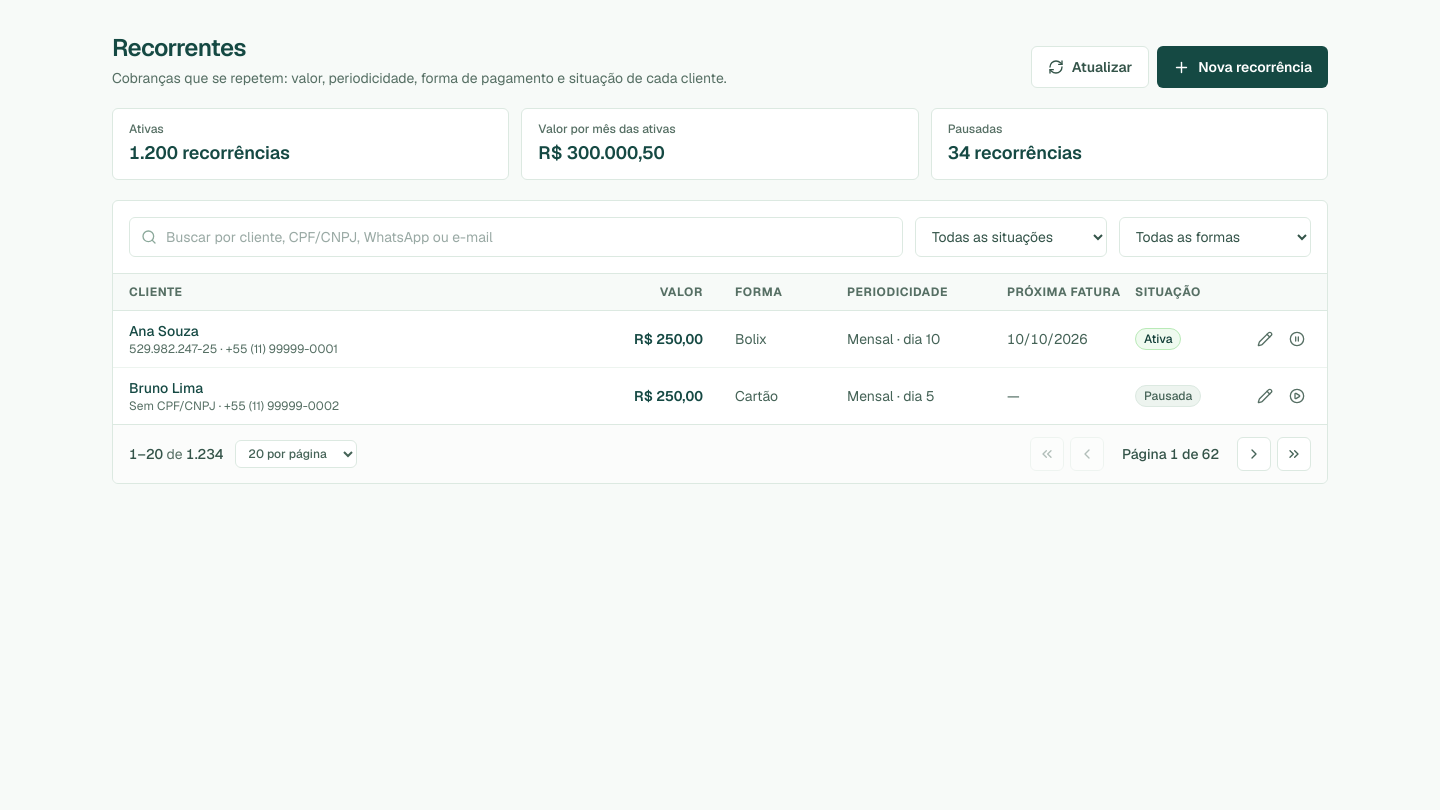
Scenario: RecorrentesPage › confirms a pause, saying the open invoice stays
The image size is (1440, 810).
Expected: the table is shown, [113,274,1327,424]
What coordinates should you click on to do the following:
click the button named "Pausar recorrência de Ana Souza"
I would click on:
 (1297, 339)
Its box is [1283,325,1311,353].
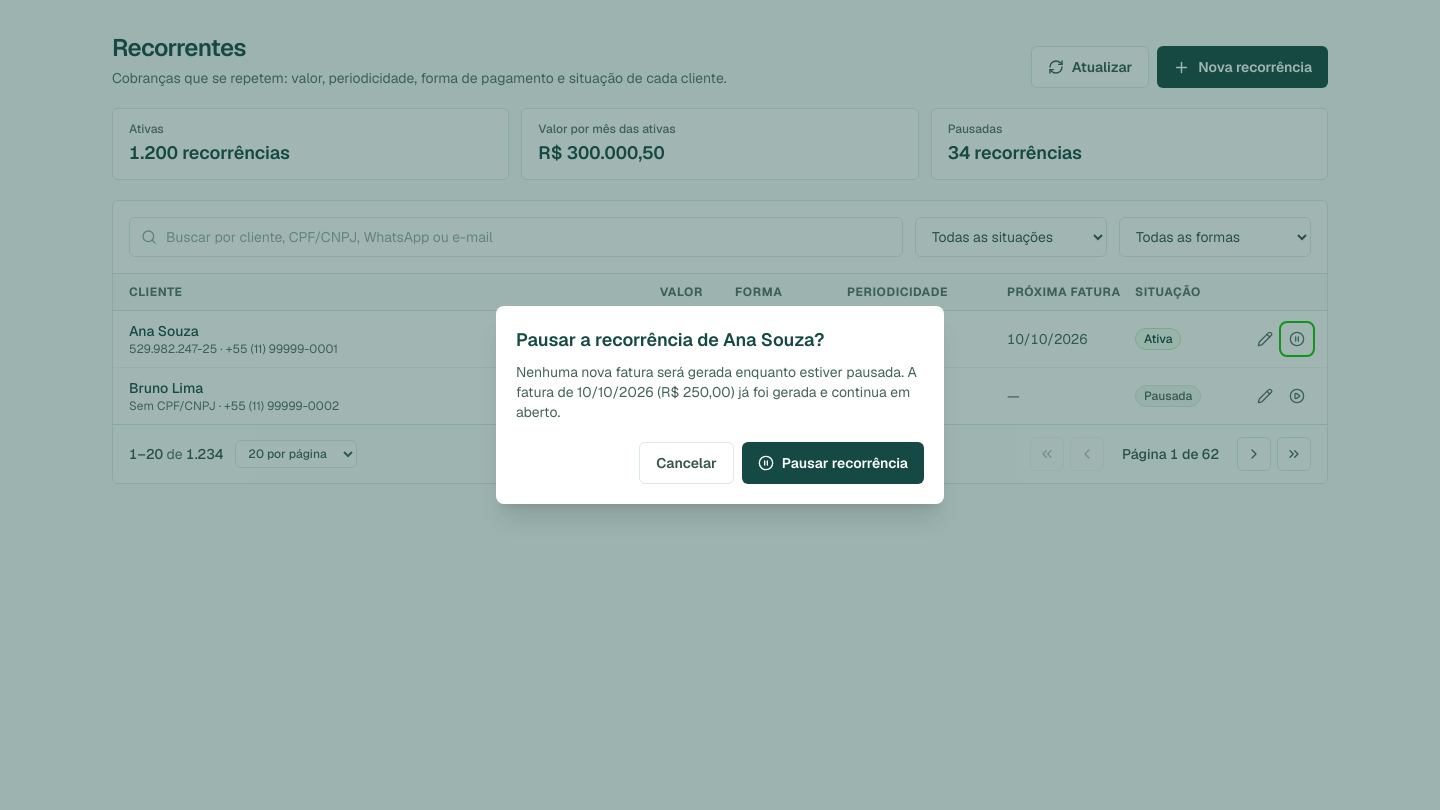
Result: the dialog shows "A fatura de 10/10/2026 (R$ 250,00) já foi gerada e continua em aberto." at [516,363,917,421]
What coordinates should you click on to do the following:
click the button "Pausar recorrência"
I would click on:
 (833, 463)
Its box is [742,442,924,484].
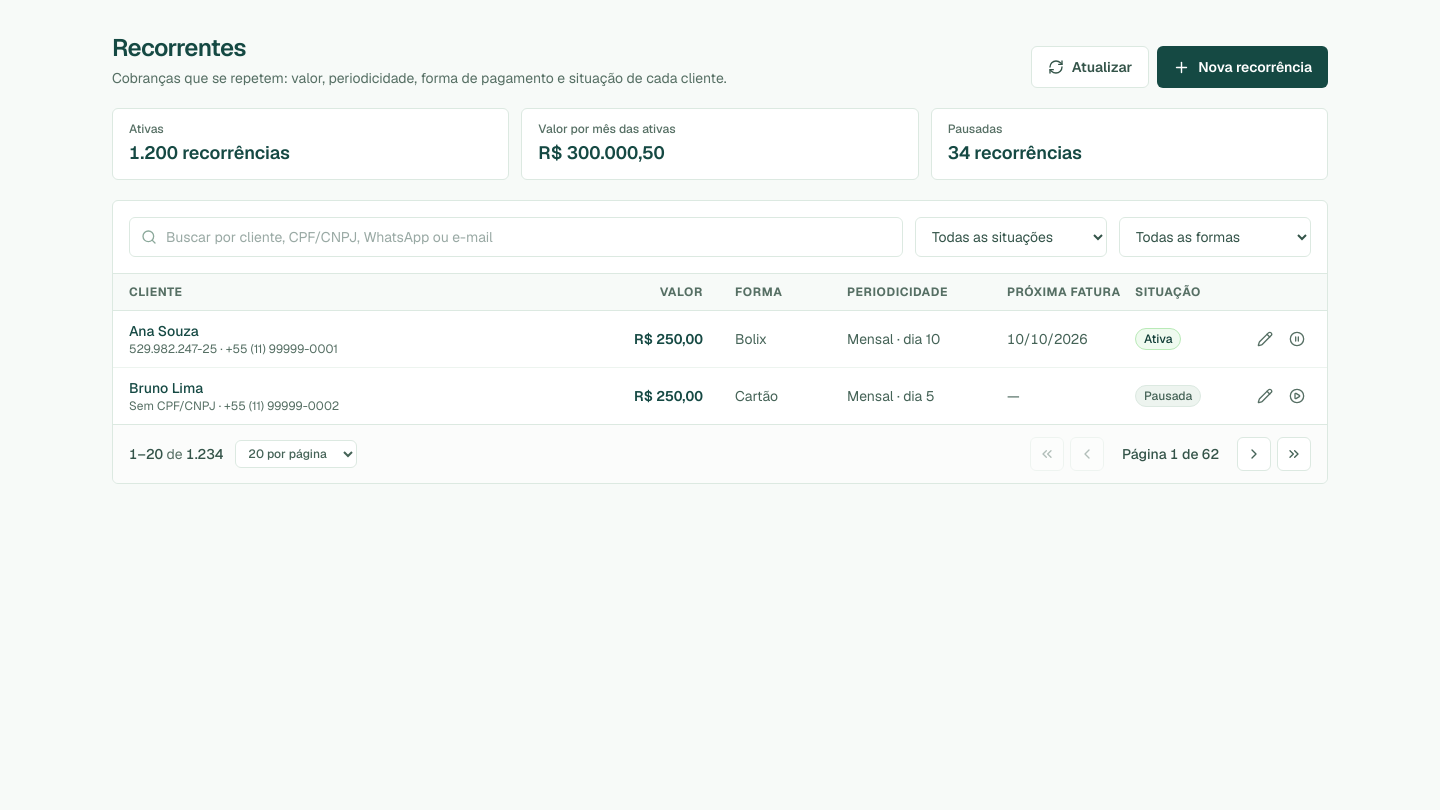
Result: the dialog is gone
